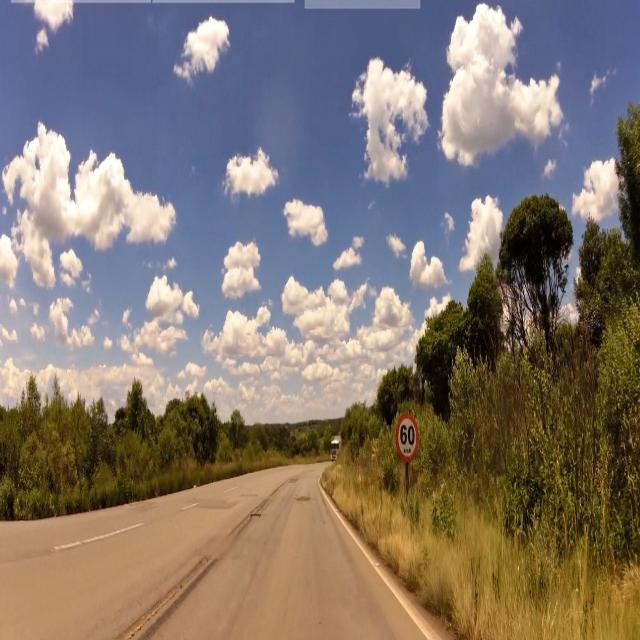R-19: (395, 411, 419, 468)
